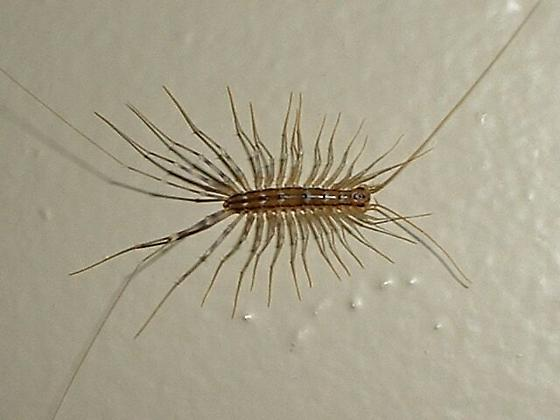centipede: (65, 82, 509, 316)
